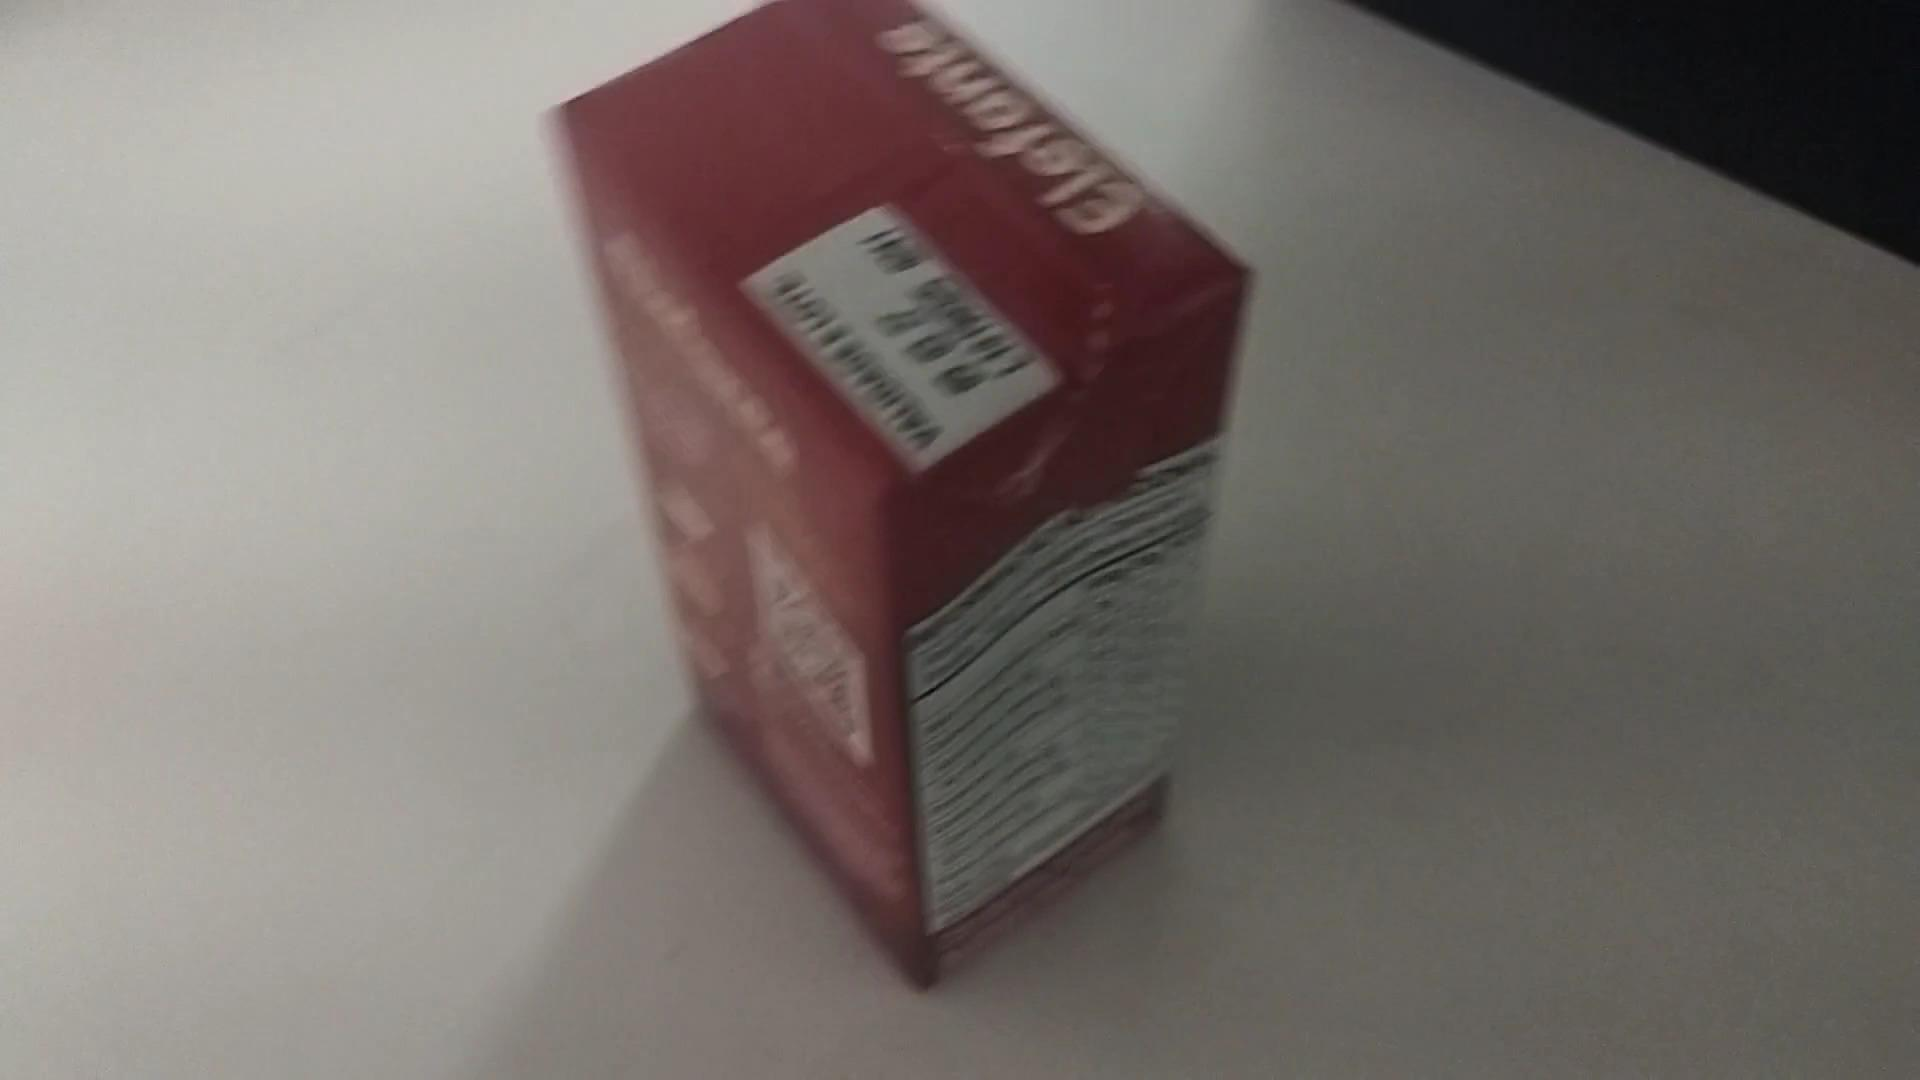tomate: (534, 0, 1262, 986)
